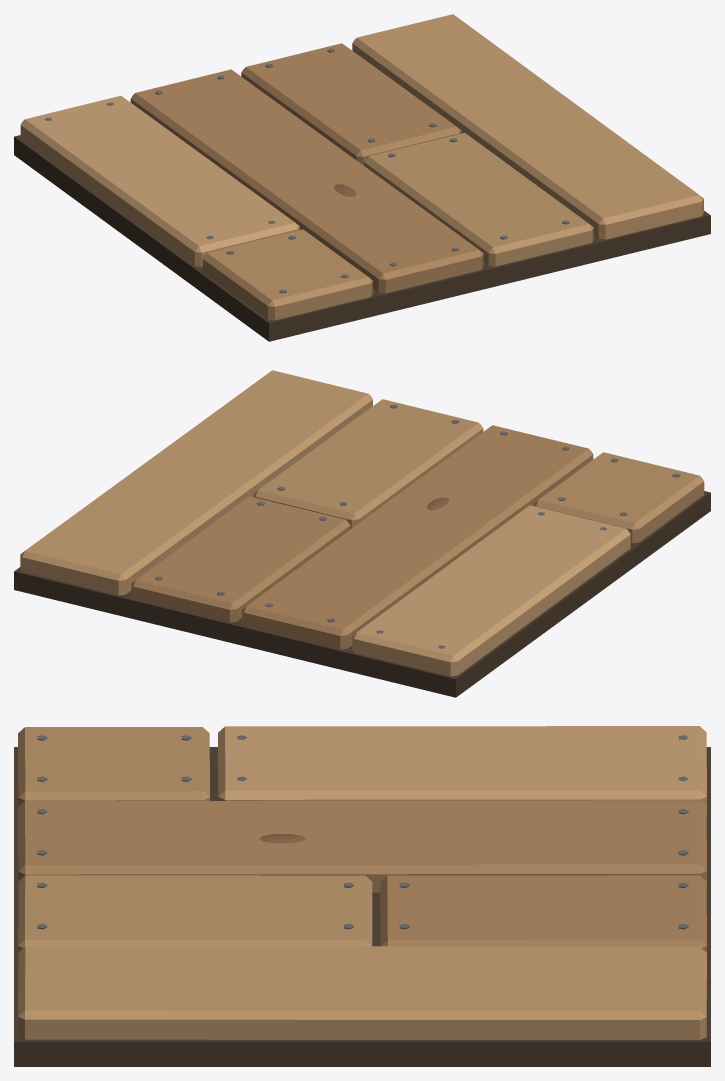
File: floor_0.glb
The picture shows the model from 3 angles, top to bottom: view 1: azimuth 30°, elevation 25°; view 2: azimuth 150°, elevation 25°; view 3: azimuth 270°, elevation 25°; orthographic projection. The views are drawn at different scales.
Parts seen in each view (by area): view 1: floor_0; view 2: floor_0; view 3: floor_0.
Part boxes in pixels (box(x1,y1,x2,y2)): floor_0: box(14, 14, 710, 341); floor_0: box(14, 370, 710, 697); floor_0: box(14, 726, 710, 1066).
Bounding box in the file's own units: 1 × 0.0817 × 1.
